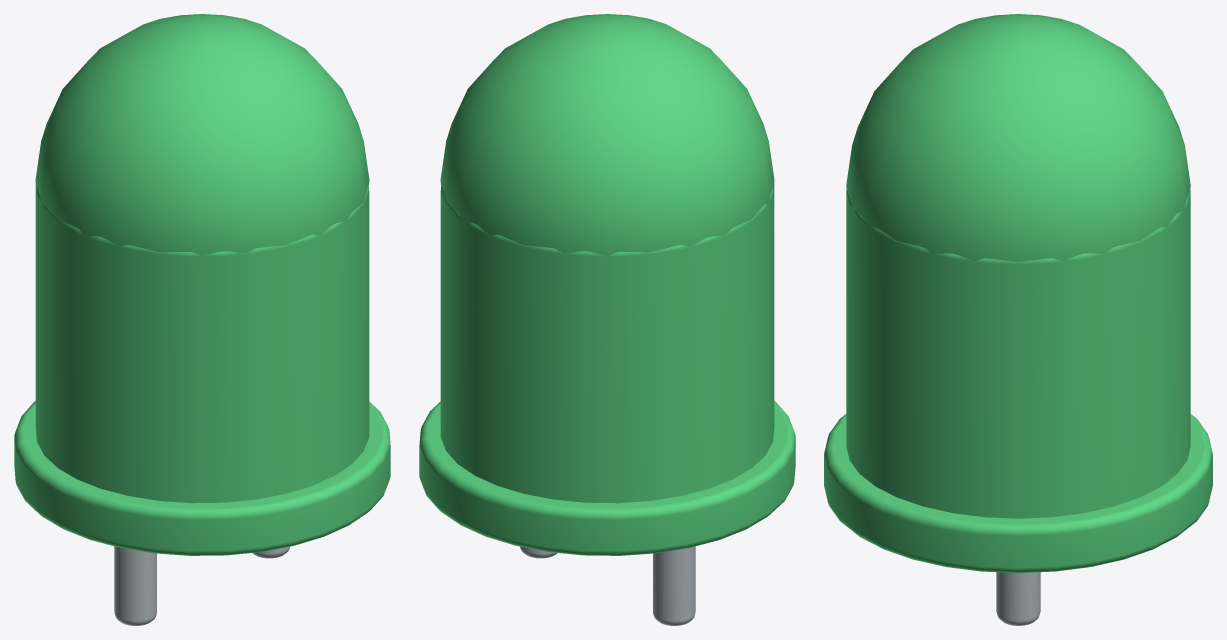
File: ENG_LED.fbx
3 renders of one model, left to right at view 1: azimuth 30°, elevation 25°; view 2: azimuth 150°, elevation 25°; view 3: azimuth 270°, elevation 25°, orthographic. The views are drawn at different scales.
Parts seen in each view (by area): view 1: Lens, Dome, Rim, Anode; view 2: Lens, Dome, Rim, Anode; view 3: Lens, Dome, Rim, Cathode.
Part boxes in pixels (x1=…): Lens: x1=35, y1=183, x2=369, y2=503; Dome: x1=35, y1=14, x2=369, y2=255; Rim: x1=14, y1=401, x2=390, y2=555; Anode: x1=114, y1=546, x2=156, y2=625; Lens: x1=440, y1=183, x2=774, y2=503; Dome: x1=440, y1=14, x2=774, y2=255; Rim: x1=419, y1=401, x2=795, y2=555; Anode: x1=653, y1=546, x2=695, y2=625; Lens: x1=846, y1=190, x2=1190, y2=518; Dome: x1=846, y1=14, x2=1190, y2=262; Rim: x1=824, y1=414, x2=1212, y2=572; Cathode: x1=996, y1=572, x2=1040, y2=625.
Size of the model in its own units: 8.8 by 14.8 by 8.8.
